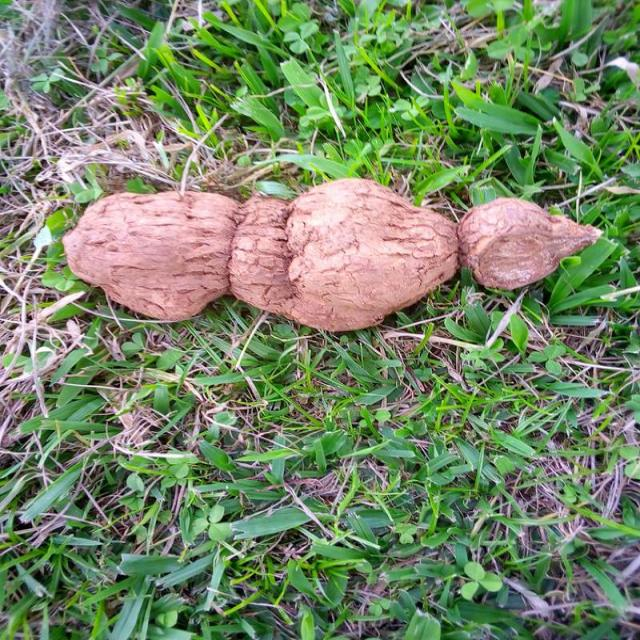cassava leaf: (62, 175, 604, 333)
